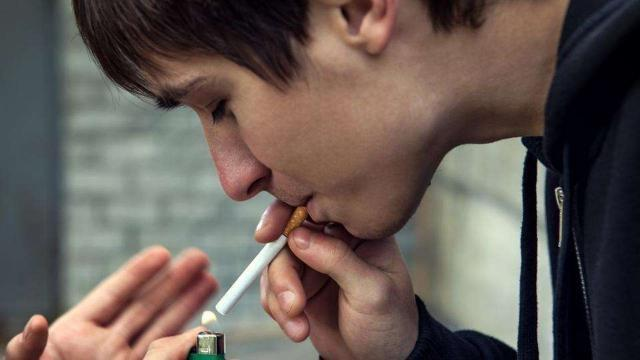Smoking: (210, 201, 304, 315)
